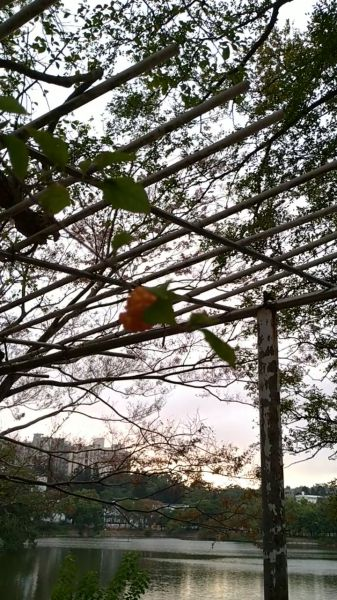eggs: (117, 281, 167, 341)
